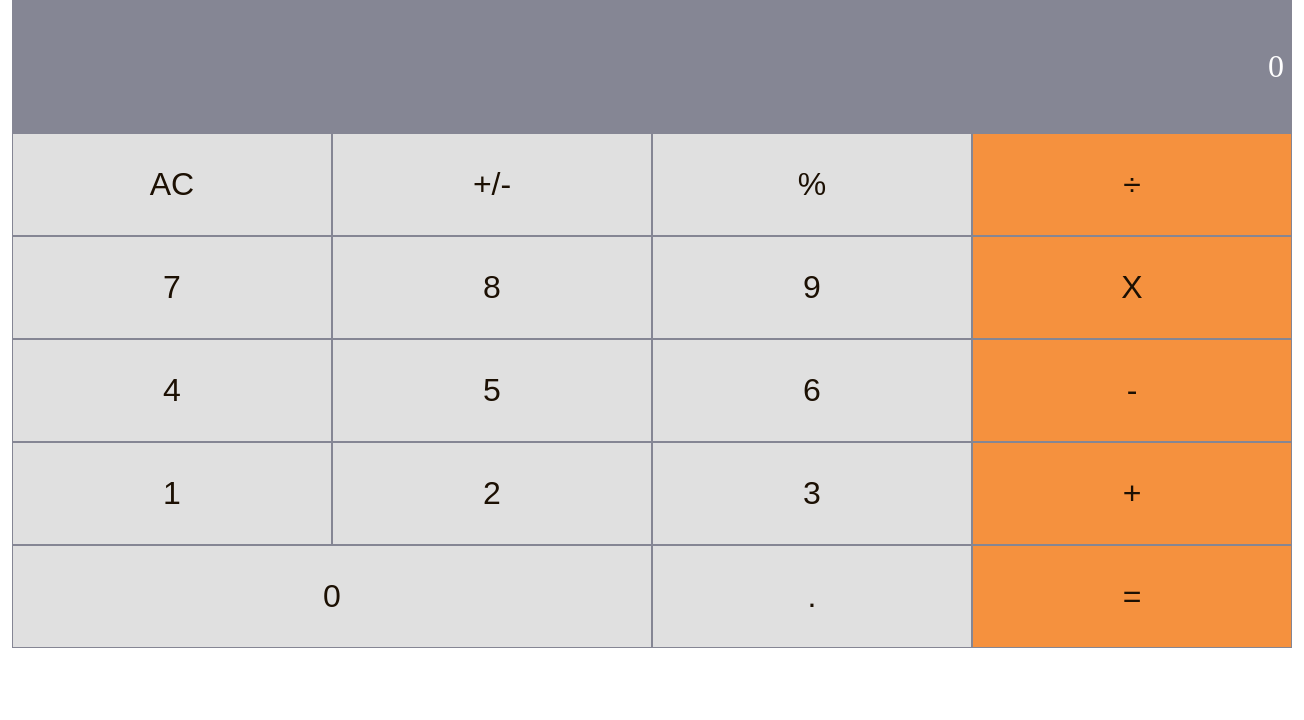
Test case: Tests for Calculator component › should be able to calculate on clicks
This screenshot has width=1304, height=720.
Expected: the text "0" is shown, [1268, 48, 1284, 84]
Expected: the button "%" is shown, [652, 133, 972, 236]
Click the button "1" at (172, 494), box [12, 442, 332, 545]
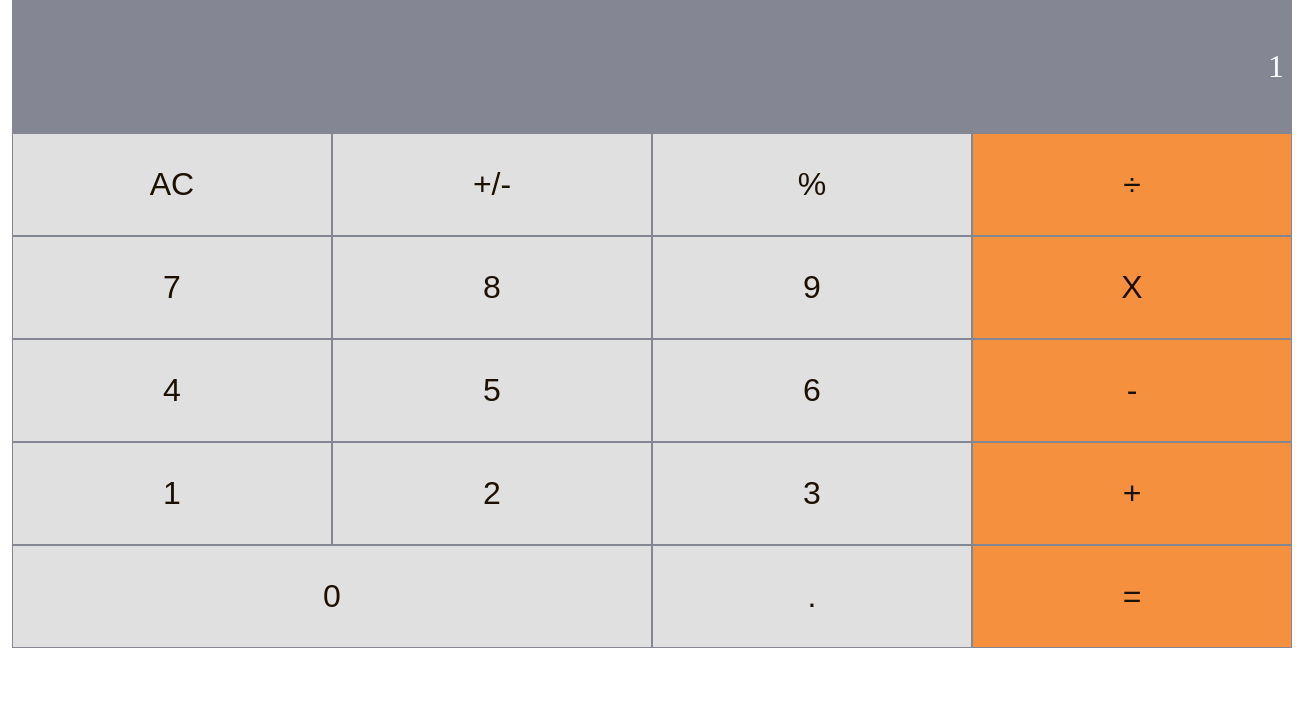
Click the button "5" at (492, 390), box [332, 339, 652, 442]
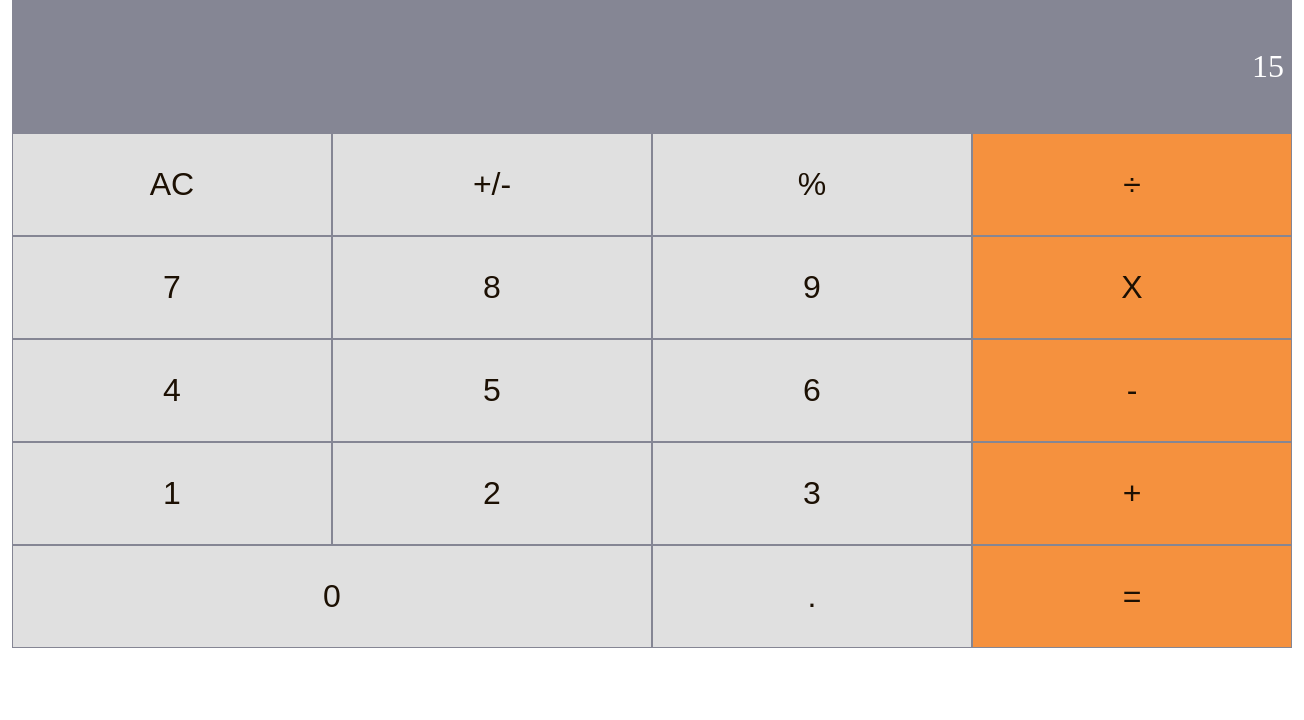
Click the button "%" at (812, 184), box [652, 133, 972, 236]
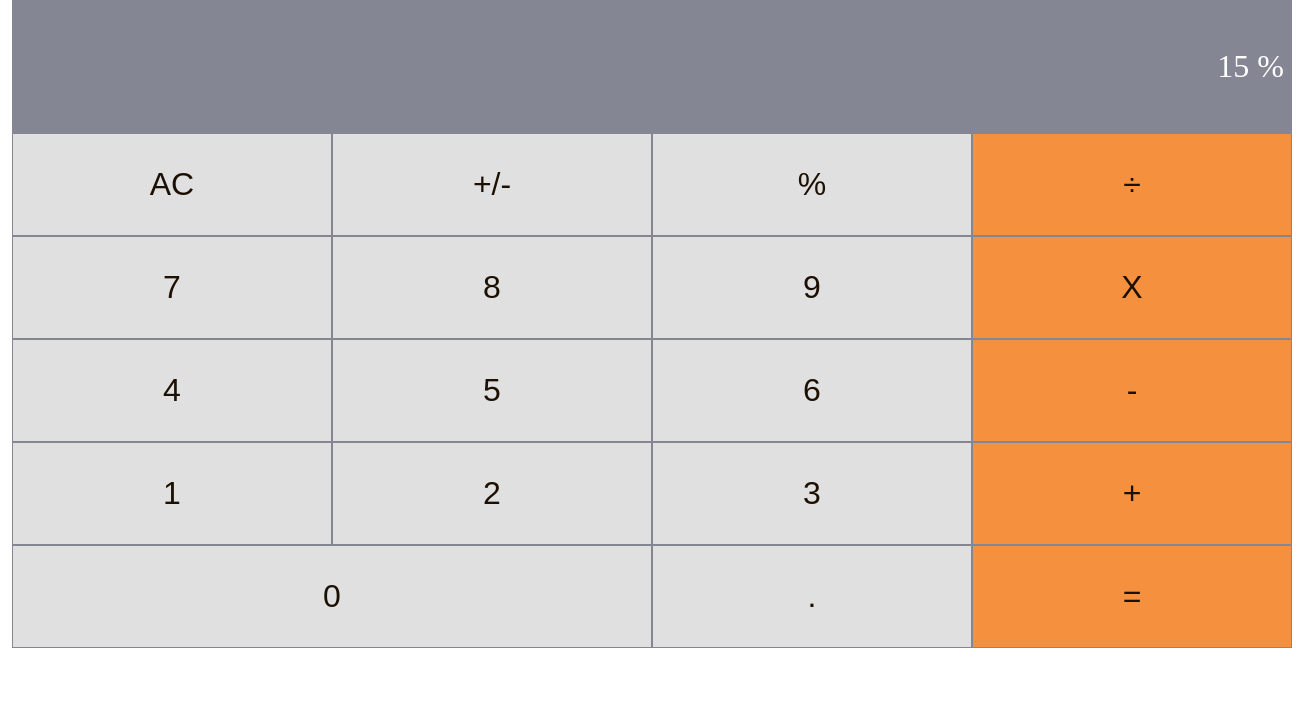
Click the button "7" at (172, 288), box [12, 236, 332, 339]
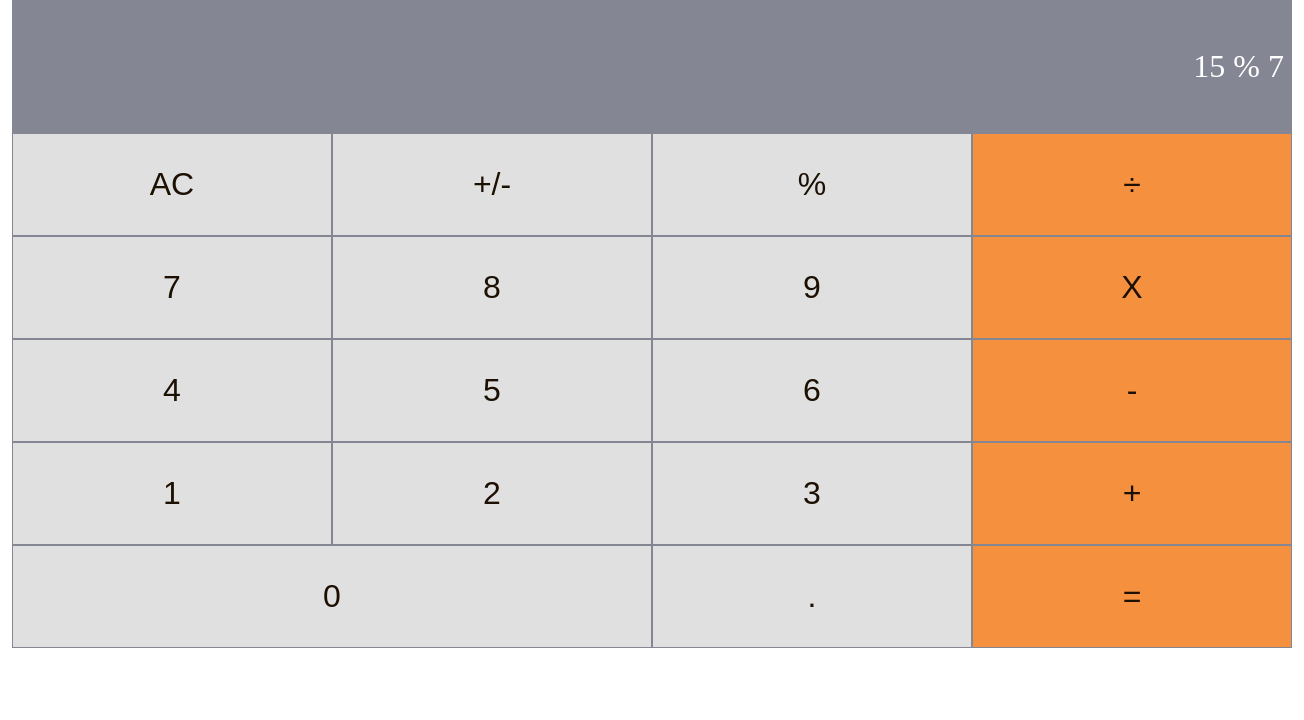
Click the button "=" at (1132, 596), box [972, 545, 1292, 648]
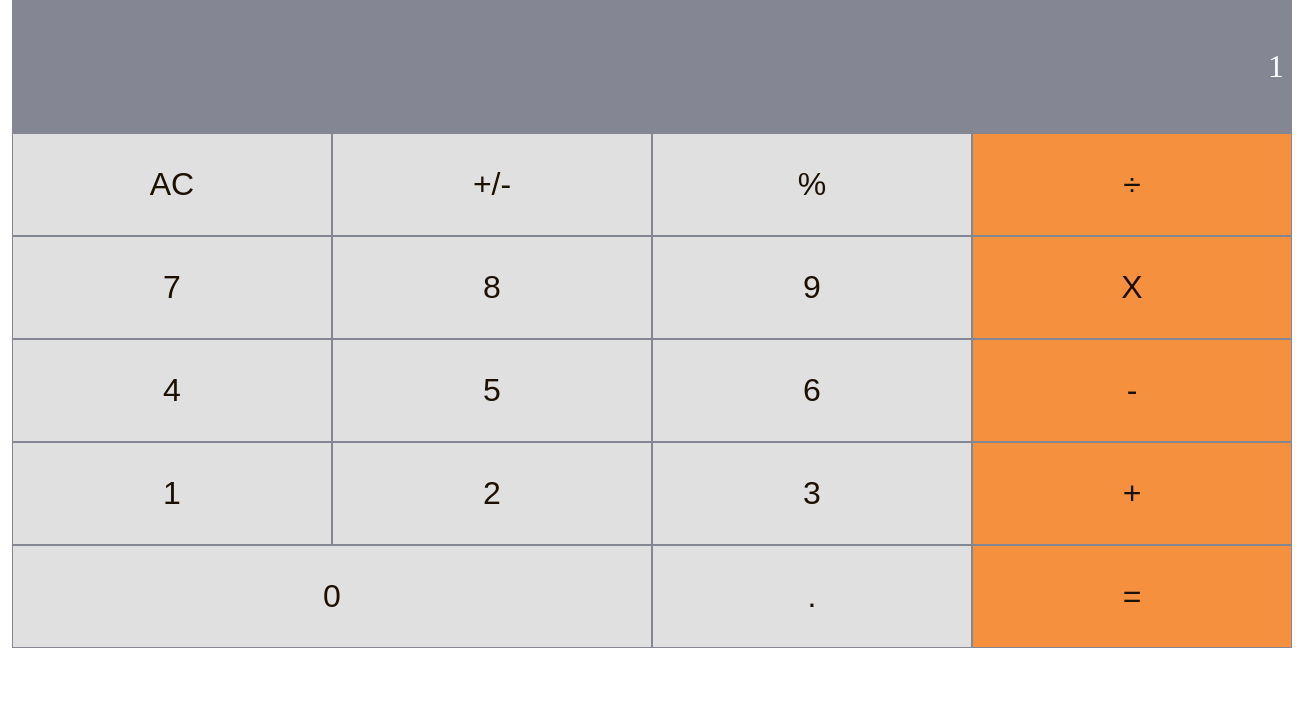
Expected: the text with test id "output" reads "1", [1268, 48, 1284, 84]
